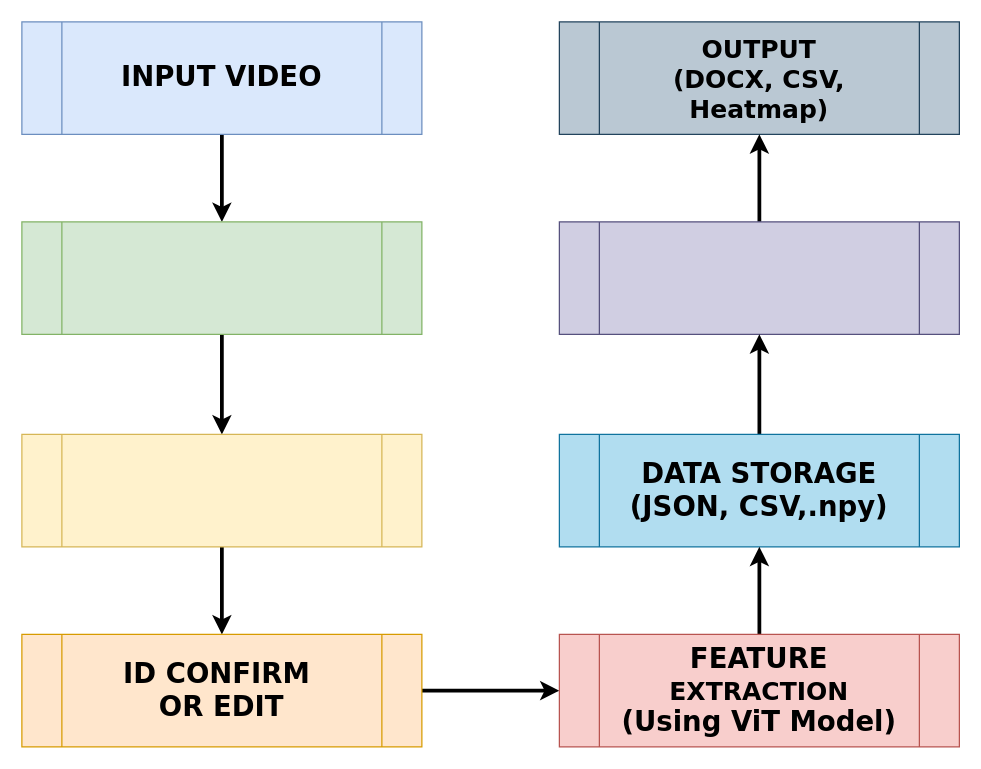
Some shapes in this 981 by 769 pixel diagram are drawn without their labels. The shapes that lost their labels are listed below. From the top down, each one's centre as x and y in pixels, then its label:
(221,277): PERSON DETECTION (Using YOLOv8n)
(758,277): COSINE SIMILARITY ANALYSIS
(221,490): AUTOMATIC ID ASSIGN
